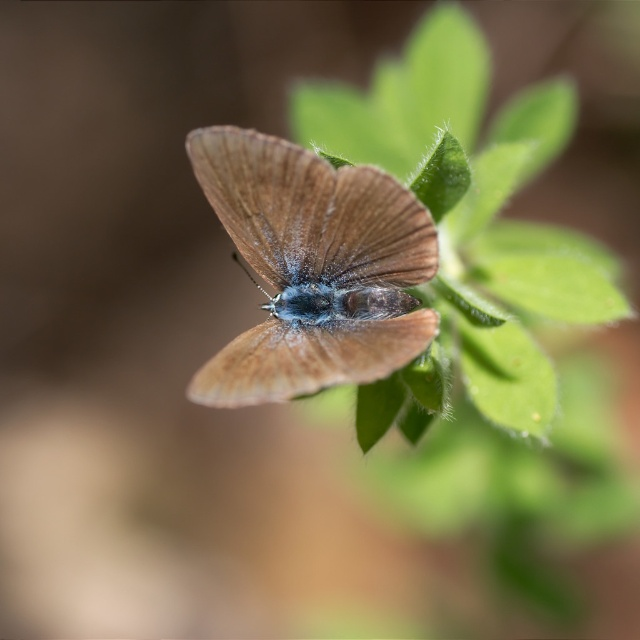Butterfly: (168, 122, 487, 429)
